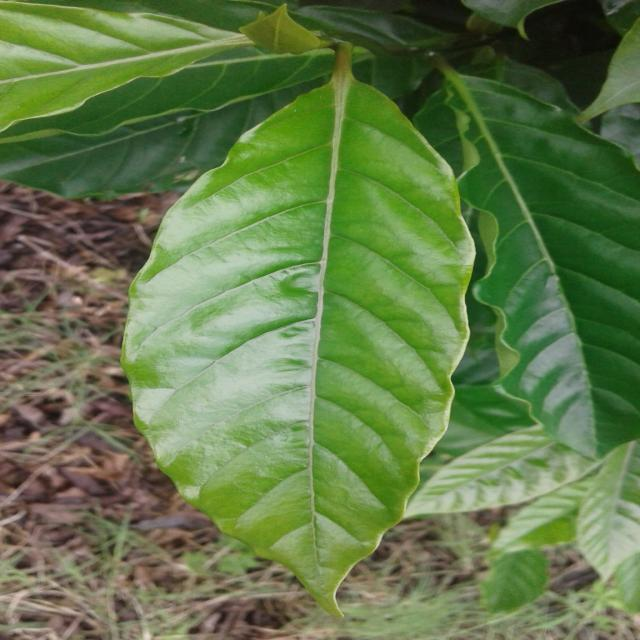Sanas: (122, 44, 476, 618)
